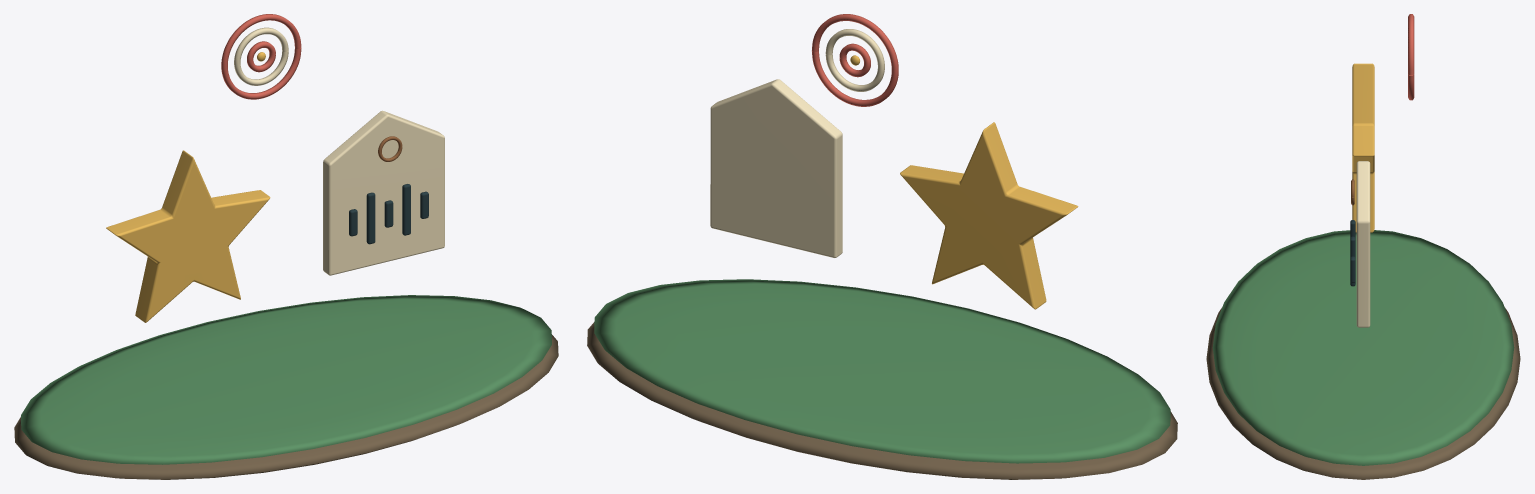
Rendered from complete-third-especially-that-one.glb.
The picture shows the model from 3 angles, left to right: view 1: azimuth 30°, elevation 25°; view 2: azimuth 150°, elevation 25°; view 3: azimuth 270°, elevation 25°; orthographic projection. The views are drawn at different scales.
Parts seen in each view (by area): view 1: complete-third-especially-that-one_surface_01, complete-third-especially-that-one_surface_03, complete-third-especially-that-one_surface_02, complete-third-especially-that-one_surface_00, complete-third-especially-that-one_surface_06, complete-third-especially-that-one_surface_05; view 2: complete-third-especially-that-one_surface_01, complete-third-especially-that-one_surface_03, complete-third-especially-that-one_surface_02, complete-third-especially-that-one_surface_00, complete-third-especially-that-one_surface_06; view 3: complete-third-especially-that-one_surface_01, complete-third-especially-that-one_surface_00, complete-third-especially-that-one_surface_02, complete-third-especially-that-one_surface_03, complete-third-especially-that-one_surface_06, complete-third-especially-that-one_surface_05.
Boxes of the visible parts, left/top/right/bottom form: complete-third-especially-that-one_surface_01: left=21, top=295, right=551, bottom=464; complete-third-especially-that-one_surface_03: left=234, top=27, right=444, bottom=275; complete-third-especially-that-one_surface_02: left=106, top=52, right=270, bottom=322; complete-third-especially-that-one_surface_00: left=14, top=335, right=558, bottom=479; complete-third-especially-that-one_surface_06: left=221, top=14, right=301, bottom=99; complete-third-especially-that-one_surface_05: left=349, top=184, right=428, bottom=244; complete-third-especially-that-one_surface_01: left=594, top=279, right=1170, bottom=463; complete-third-especially-that-one_surface_03: left=710, top=29, right=884, bottom=257; complete-third-especially-that-one_surface_02: left=850, top=55, right=1078, bottom=309; complete-third-especially-that-one_surface_00: left=587, top=322, right=1177, bottom=479; complete-third-especially-that-one_surface_06: left=812, top=14, right=898, bottom=106; complete-third-especially-that-one_surface_01: left=1212, top=230, right=1514, bottom=465; complete-third-especially-that-one_surface_00: left=1206, top=308, right=1520, bottom=479; complete-third-especially-that-one_surface_02: left=1352, top=63, right=1374, bottom=232; complete-third-especially-that-one_surface_03: left=1356, top=161, right=1370, bottom=327; complete-third-especially-that-one_surface_06: left=1408, top=14, right=1414, bottom=100; complete-third-especially-that-one_surface_05: left=1350, top=220, right=1355, bottom=286.
Bounding box in the file's own units: 4.56 × 3.12 × 2.5.
